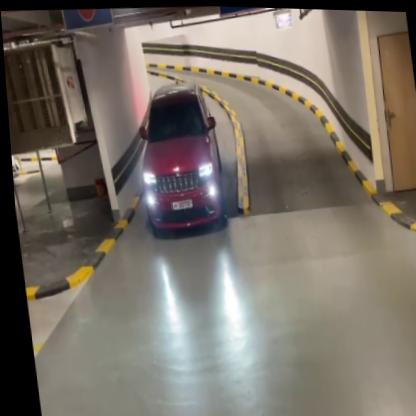np: (166, 196, 192, 211)
